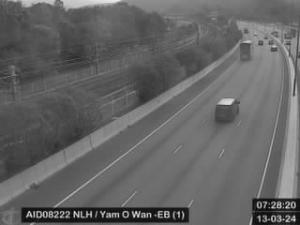bus: (241, 41, 254, 61)
vehicle: (214, 97, 240, 121), (271, 45, 277, 51), (258, 40, 264, 44), (244, 29, 248, 34), (286, 41, 290, 45), (254, 34, 258, 36)
